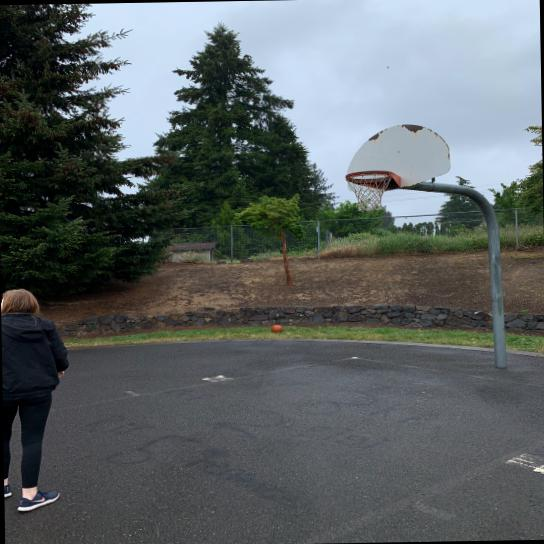basketball-hoop: (343, 169, 396, 213)
